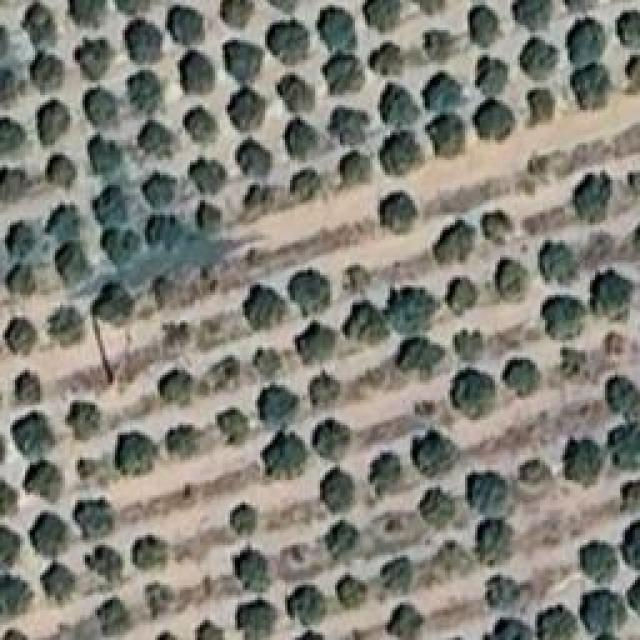Tree: (578, 578, 627, 632), (38, 563, 82, 614), (410, 428, 453, 480), (115, 433, 159, 480), (75, 35, 116, 84), (465, 470, 509, 515), (575, 173, 614, 222), (125, 18, 169, 61), (73, 500, 119, 541), (457, 370, 498, 416), (25, 462, 65, 509), (318, 473, 361, 516), (420, 485, 464, 527), (267, 23, 311, 65), (390, 288, 435, 329), (375, 552, 415, 598), (35, 98, 77, 141), (478, 525, 520, 568), (278, 73, 321, 115), (263, 438, 307, 479), (178, 48, 215, 96), (542, 238, 579, 286), (588, 273, 630, 314), (228, 85, 268, 128), (52, 245, 95, 285), (540, 602, 585, 640), (218, 40, 261, 79), (15, 415, 54, 458), (233, 598, 277, 636), (545, 297, 590, 334), (3, 310, 39, 356), (313, 420, 352, 462), (365, 450, 403, 493), (0, 578, 34, 626), (35, 513, 72, 557), (430, 110, 467, 154), (570, 18, 607, 62), (28, 48, 64, 93), (232, 552, 271, 593), (98, 228, 145, 262), (380, 193, 422, 231), (85, 85, 122, 128), (288, 585, 331, 622), (380, 85, 417, 128), (23, 0, 59, 44), (290, 273, 329, 313), (245, 290, 285, 329), (348, 303, 386, 344), (138, 118, 177, 157), (138, 170, 177, 209), (2, 262, 41, 301), (48, 305, 87, 344), (93, 285, 133, 323), (155, 368, 195, 406), (257, 387, 294, 428), (8, 368, 43, 411), (488, 578, 531, 613), (440, 222, 477, 262), (168, 7, 211, 41), (215, 0, 259, 33), (232, 138, 270, 176), (330, 108, 368, 146), (522, 40, 558, 80), (180, 108, 218, 145), (215, 408, 252, 446), (302, 328, 339, 366), (320, 10, 358, 47), (583, 538, 619, 577), (157, 318, 197, 353), (127, 75, 168, 109), (400, 343, 443, 375), (325, 523, 361, 561), (330, 55, 366, 93), (385, 605, 424, 640), (512, 0, 556, 31), (95, 598, 135, 632), (0, 168, 30, 213), (88, 543, 125, 579), (307, 370, 344, 406), (383, 138, 421, 173), (602, 375, 640, 410), (138, 582, 177, 616), (128, 533, 168, 566), (528, 85, 560, 126), (475, 60, 510, 97), (87, 142, 125, 176), (428, 73, 462, 111), (190, 158, 229, 191), (50, 203, 83, 242), (575, 68, 608, 107), (5, 220, 40, 256), (47, 150, 81, 187), (478, 100, 511, 138), (93, 183, 128, 218), (433, 540, 470, 573), (483, 213, 520, 246), (505, 358, 537, 396), (193, 197, 228, 231), (500, 260, 530, 299), (287, 168, 320, 203), (340, 150, 372, 186), (165, 428, 200, 460), (448, 280, 480, 315), (425, 30, 461, 61), (338, 262, 375, 292), (150, 213, 180, 249), (470, 7, 499, 44), (612, 422, 640, 460), (287, 125, 321, 156), (0, 522, 20, 574), (617, 7, 640, 52), (558, 345, 590, 377), (68, 406, 104, 434), (620, 515, 640, 565), (375, 45, 406, 77), (245, 182, 274, 216), (565, 440, 593, 475), (227, 505, 259, 535), (336, 578, 368, 607), (3, 118, 26, 158), (523, 457, 553, 487), (367, 0, 400, 27), (70, 0, 105, 25), (458, 333, 490, 360), (255, 348, 283, 378), (490, 618, 523, 640), (73, 453, 97, 482), (195, 620, 231, 639), (617, 480, 639, 511), (0, 480, 15, 513), (123, 0, 153, 16), (625, 55, 639, 87)
